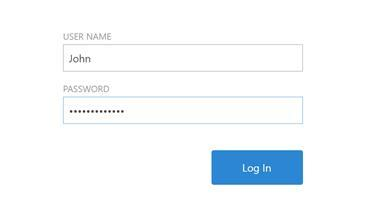button: (212, 152, 305, 186)
input: (65, 98, 304, 126), (64, 45, 304, 72)
label: (63, 85, 111, 95), (64, 32, 113, 41)
